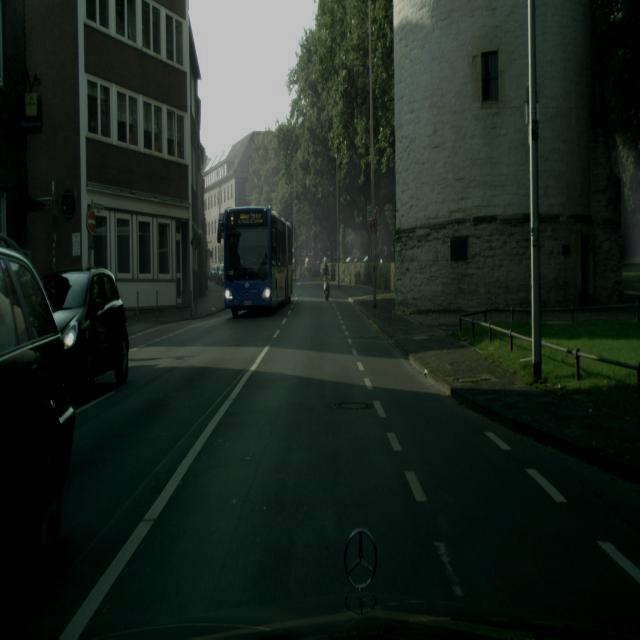bicycle: (222, 206, 294, 318)
person: (321, 257, 330, 298)
truck: (0, 237, 76, 577), (42, 267, 130, 399)
